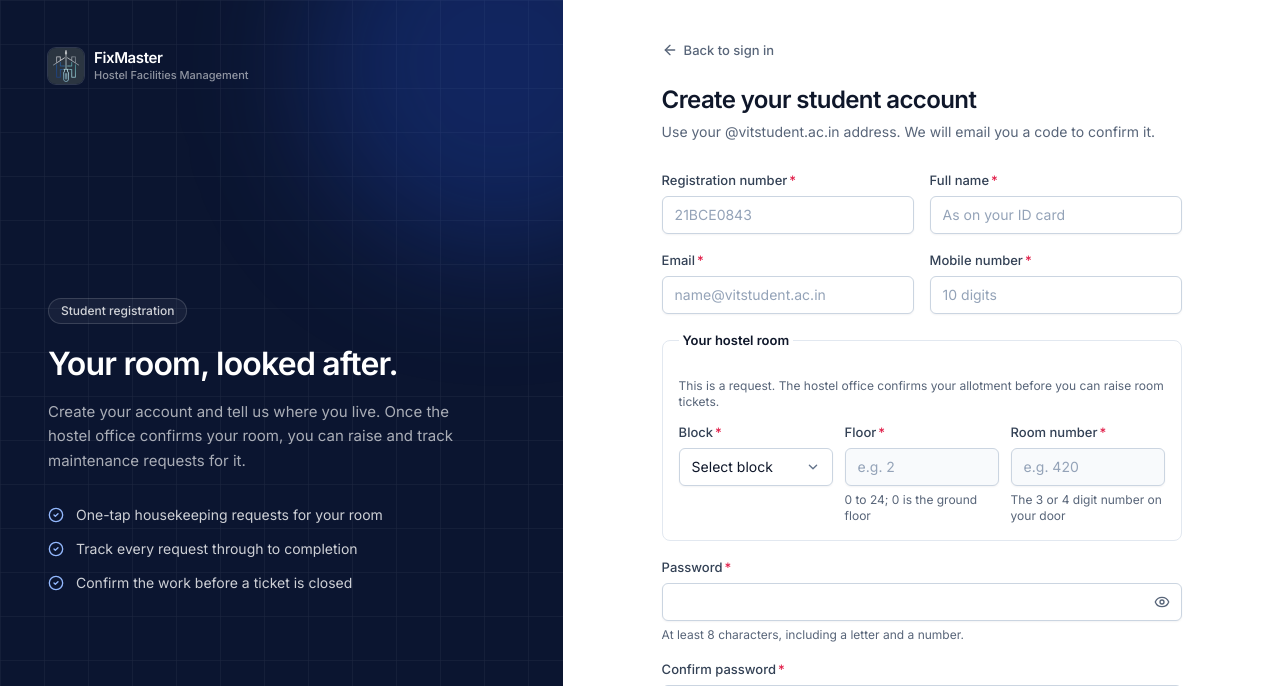
Scenario: RegisterScreen › offers only the configured blocks; floor and room number are typed as whole numbers and checked against the block
This screenshot has width=1280, height=686.
Expected: the field labelled "Floor*" is disabled, [845,448,999,486]
Expected: the field labelled "Room number*" is disabled, [1011,448,1165,486]
Select "X Block" in the dropdown labelled "Block*" at (756, 467), box [679,448,833,486]
Type "1x" into the field labelled "Floor*" at (922, 467), box [845,448,999,486]
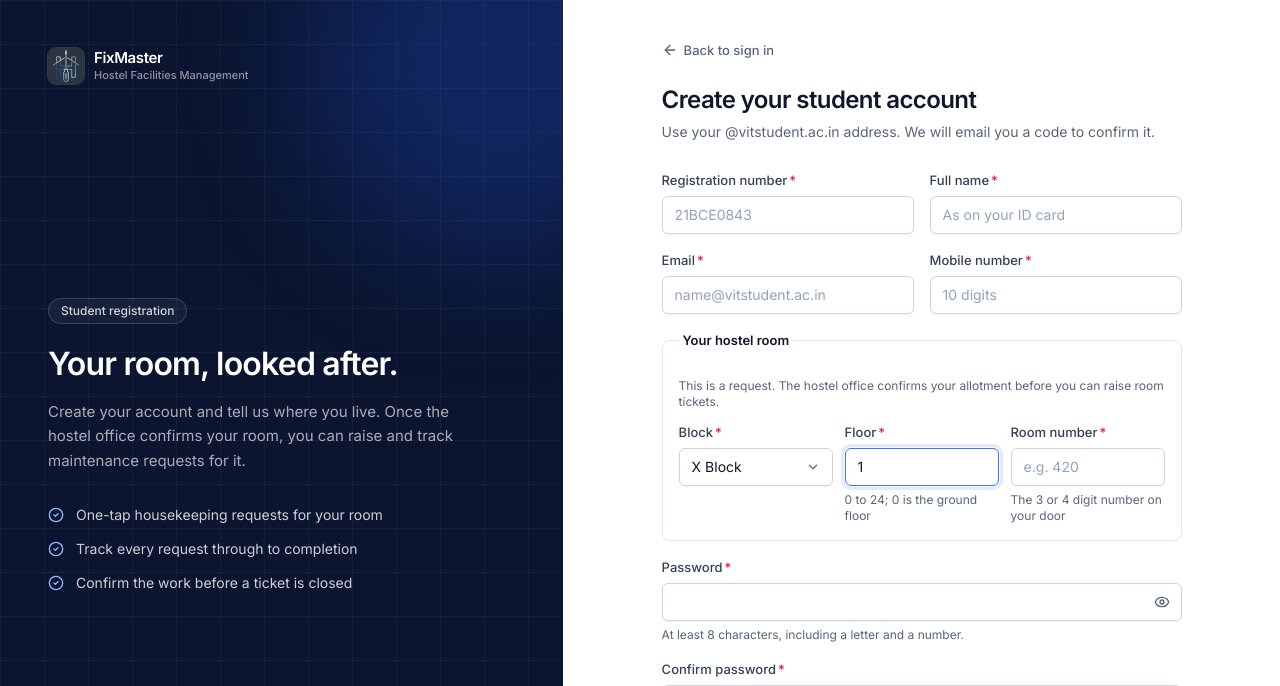
Expected: the field labelled "Floor*" holds "1", [845,448,999,486]
Type "101" into the field labelled "Room number*" at (1088, 467), box [1011,448,1165,486]
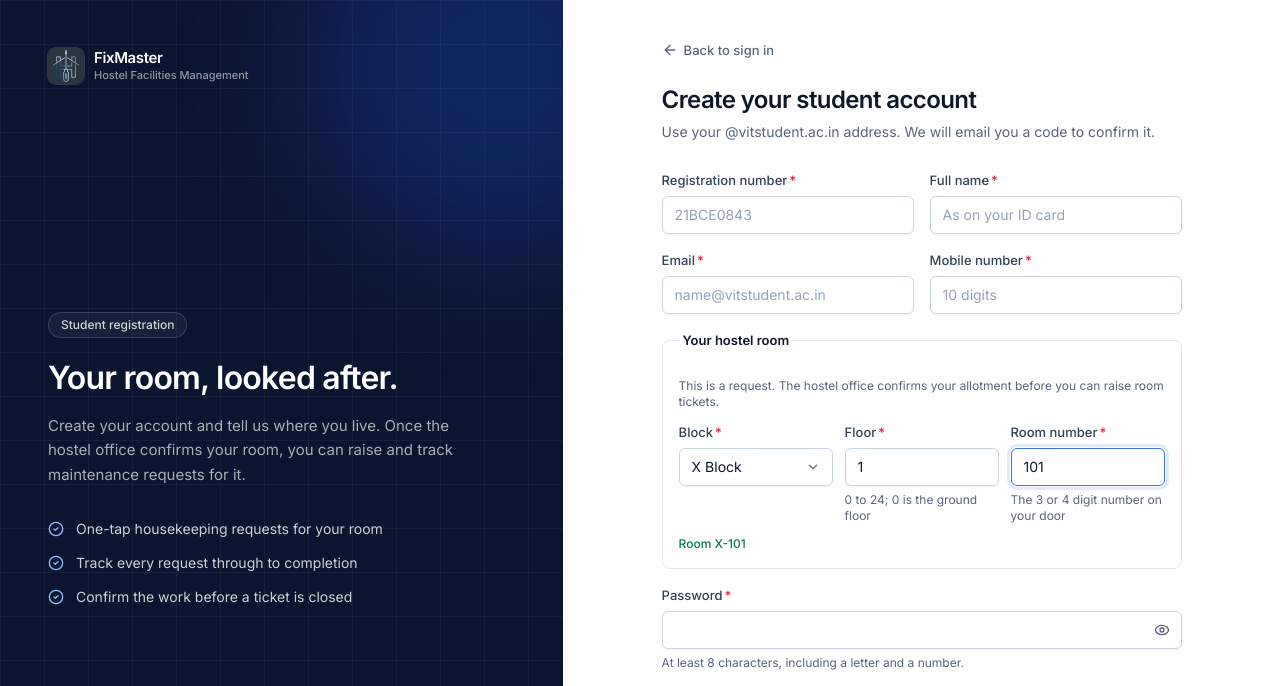
Expected: the text "Room X-101" is shown, [679,536,746,551]
# The door number does not have to start with the floor: floor 3 can hold room 420.
Replace the text in the field labelled "Floor*" with "3" at (922, 467), box [845,448,999,486]
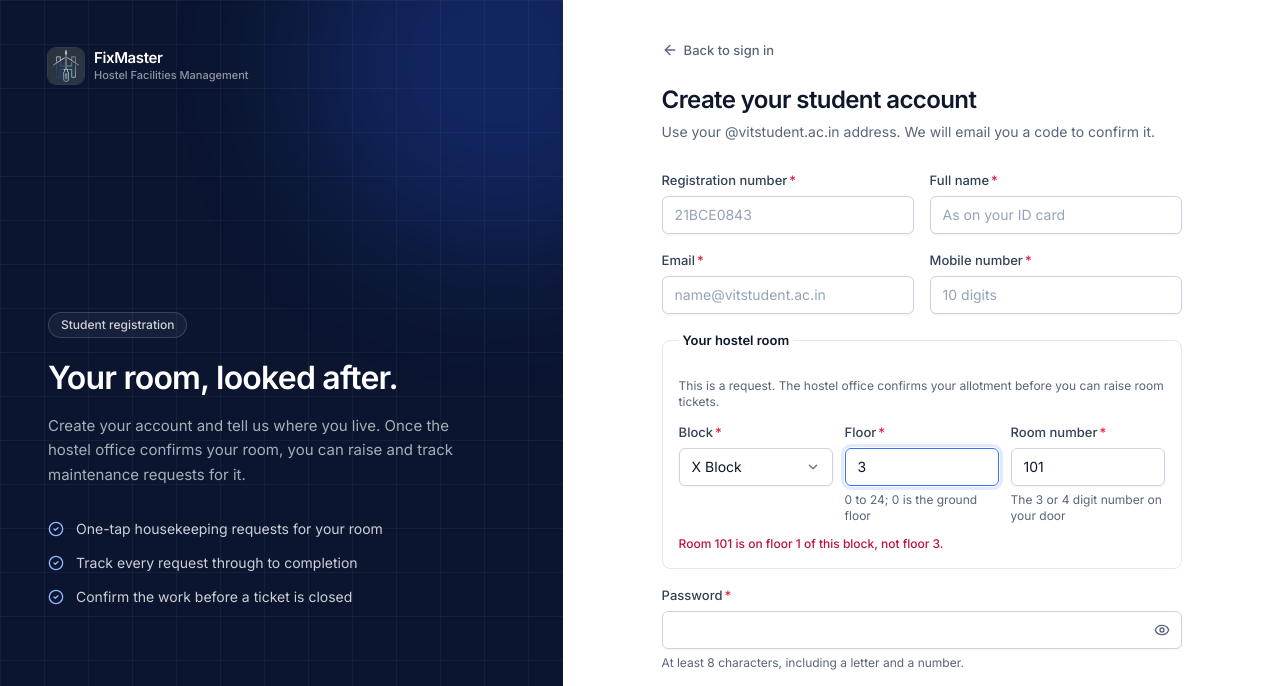
Replace the text in the field labelled "Room number*" with "420" at (1088, 467), box [1011,448,1165,486]
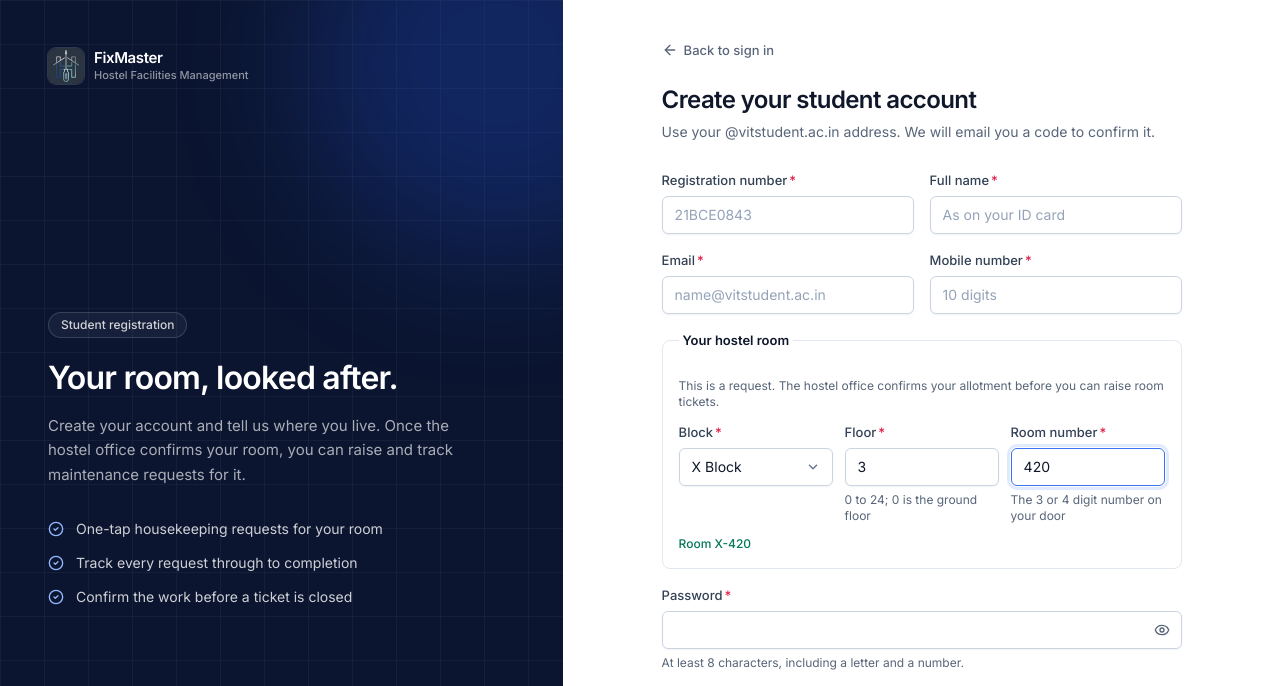
Expected: the text "Room X-420" is shown, [679,536,751,551]
# The same room on the wrong floor is named, not just refused.
Replace the text in the field labelled "Floor*" with "4" at (922, 467), box [845,448,999,486]
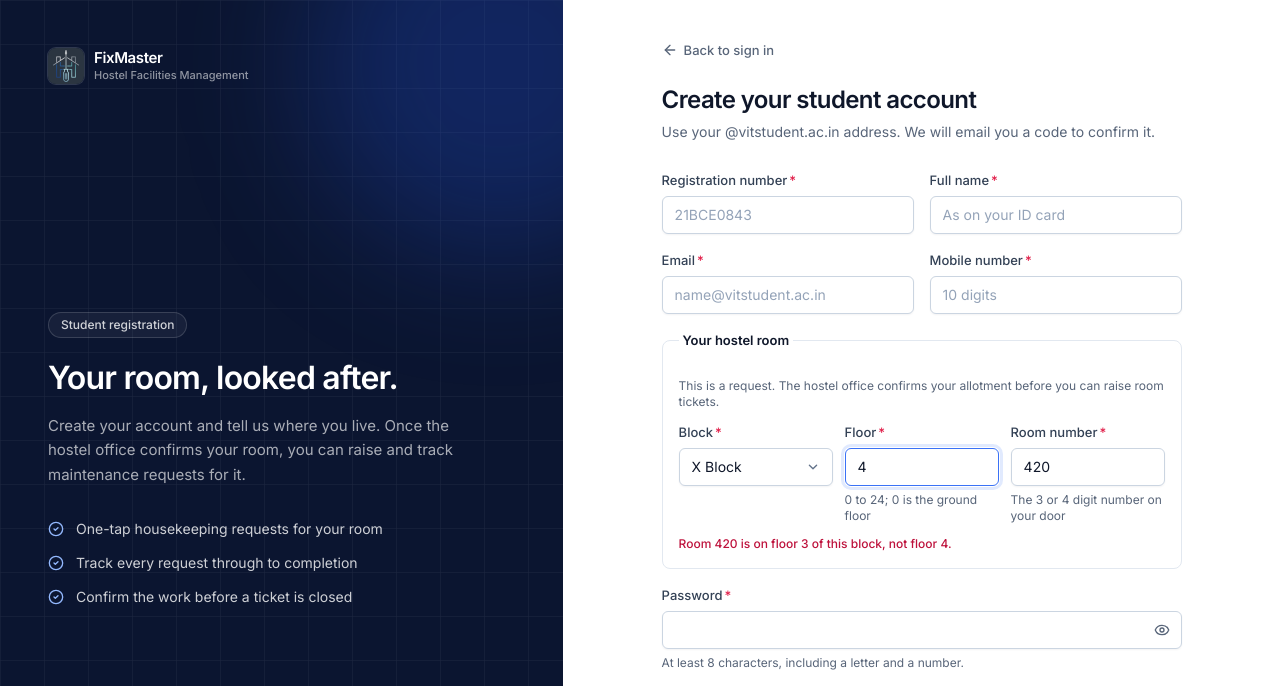
Expected: the text "Room 420 is on floor 3 of this block, not floor 4." is shown, [679,536,952,551]
Replace the text in the field labelled "Room number*" with "999" at (1088, 467), box [1011,448,1165,486]
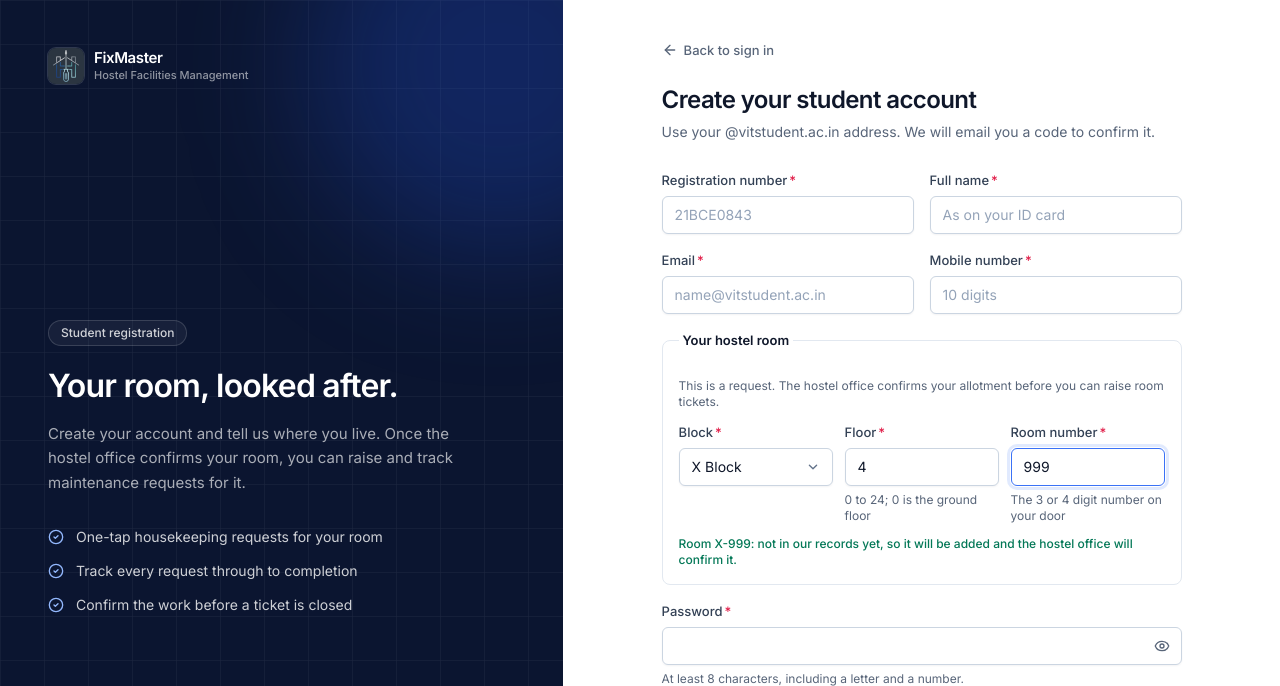
Expected: the text "Room X-999: not in our records yet" is shown, [679,536,1133,567]
